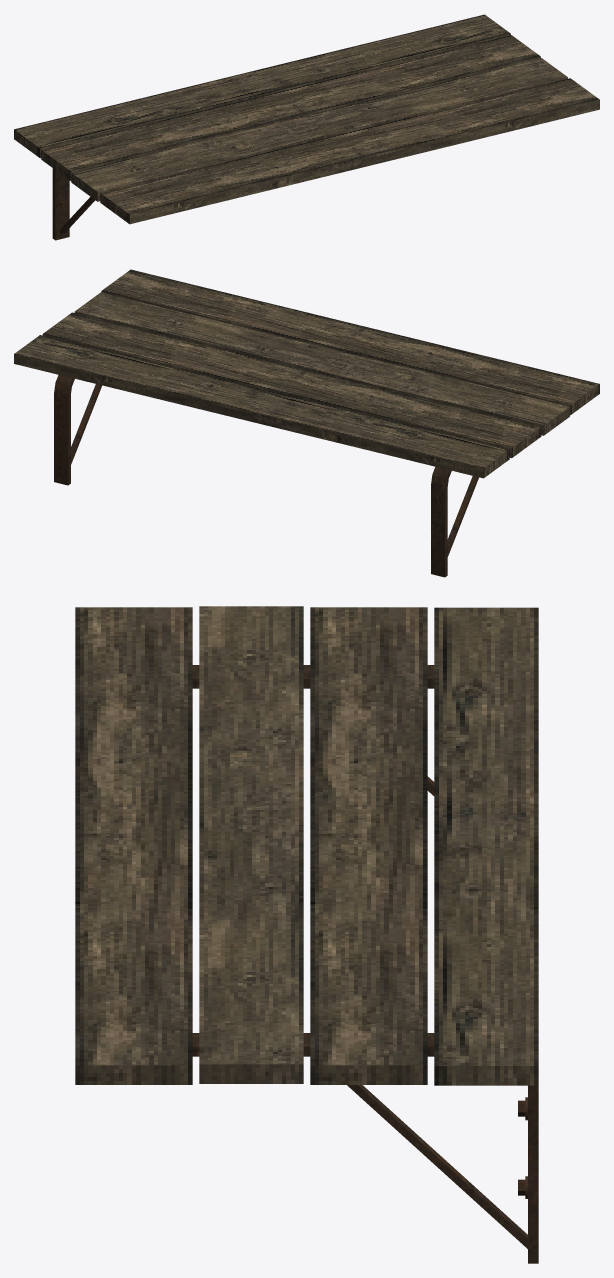
File: hanging_shelf_mx_3.glb
The picture shows the model from 3 angles, top to bottom: view 1: azimuth 30°, elevation 25°; view 2: azimuth 150°, elevation 25°; view 3: azimuth 270°, elevation 25°; orthographic projection. The views are drawn at different scales.
Parts seen in each view (by area): view 1: hanging_shelf_mx_3; view 2: hanging_shelf_mx_3; view 3: hanging_shelf_mx_3.
Boxes of the visible parts, left/top/right/bottom form: hanging_shelf_mx_3: left=14, top=14, right=599, bottom=240; hanging_shelf_mx_3: left=14, top=269, right=599, bottom=577; hanging_shelf_mx_3: left=75, top=606, right=538, bottom=1263.
Bounding box in the file's own units: 1 × 0.24 × 0.426.
Materials: 2 (2 with a texture image).
